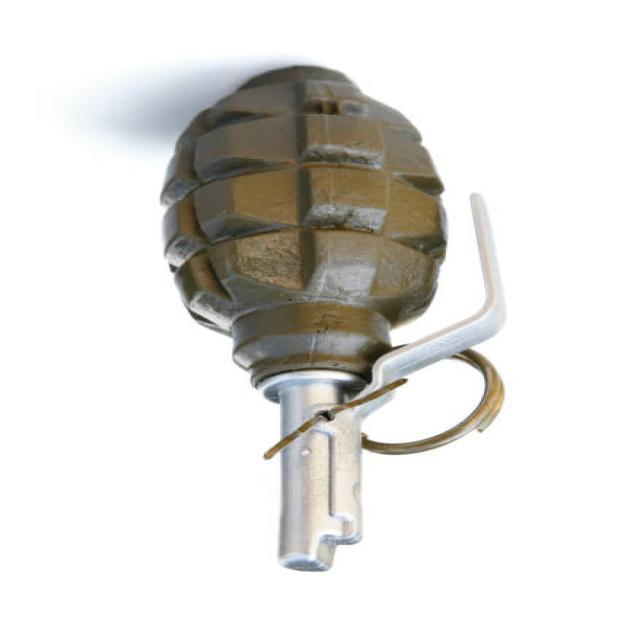grenade: (156, 56, 523, 575)
